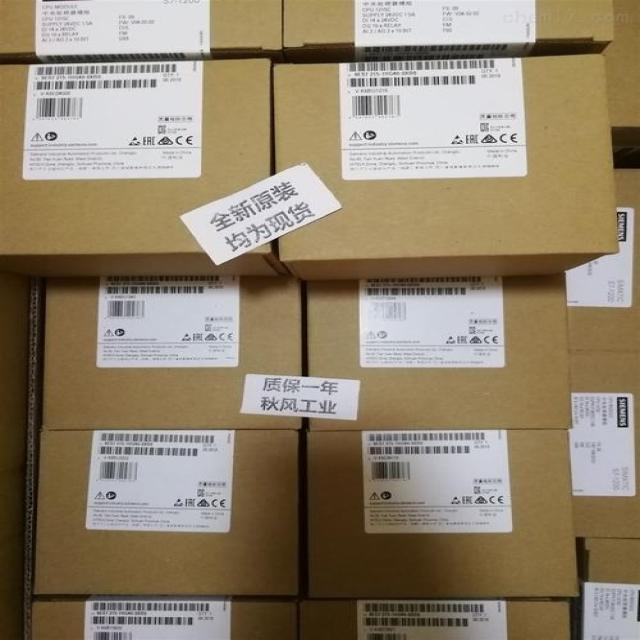box: (271, 54, 620, 280), (0, 59, 289, 278), (307, 430, 579, 597), (35, 430, 298, 598), (303, 274, 576, 432), (44, 276, 303, 431), (282, 1, 613, 59), (0, 0, 285, 60), (564, 169, 640, 349), (570, 348, 640, 540), (303, 596, 572, 640), (33, 597, 296, 639), (580, 539, 640, 640), (604, 1, 640, 151)
